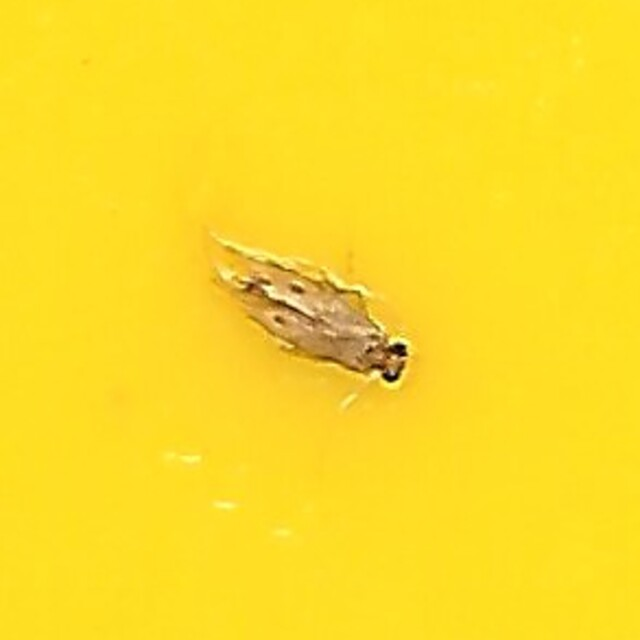Trichoptera: (218, 236, 422, 404)
